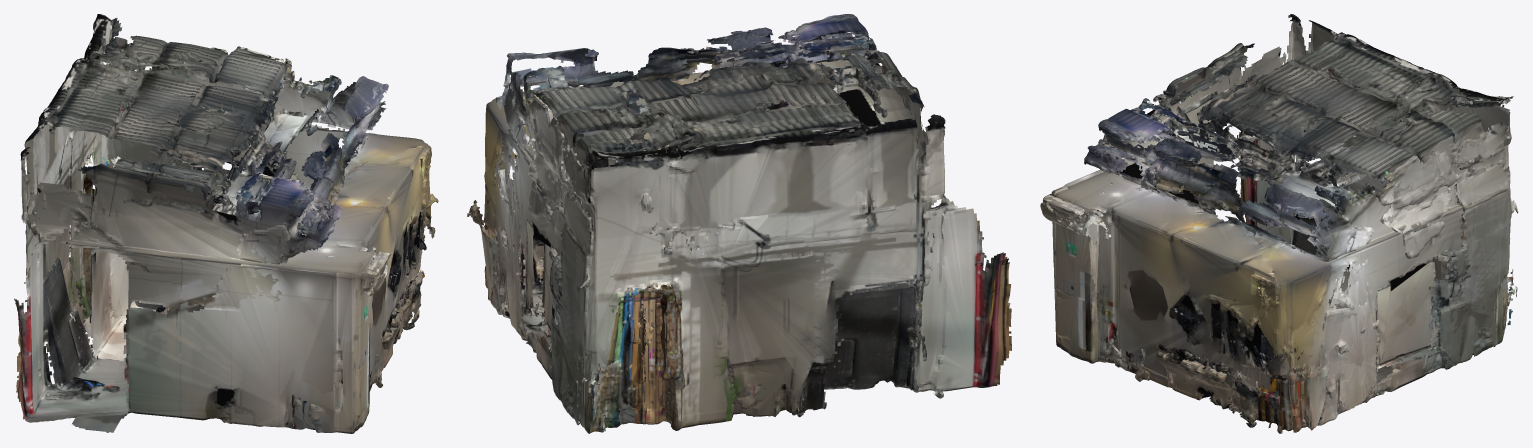
File: Photography_room-IM.fbx
The picture shows the model from 3 angles, left to right: view 1: azimuth 30°, elevation 25°; view 2: azimuth 150°, elevation 25°; view 3: azimuth 270°, elevation 25°; orthographic projection. The views are drawn at different scales.
Parts seen in each view (by area): view 1: Photography_room-IM; view 2: Photography_room-IM; view 3: Photography_room-IM.
Boxes of the visible parts, left/top/right/bottom form: Photography_room-IM: left=14, top=14, right=438, bottom=433; Photography_room-IM: left=467, top=14, right=1011, bottom=433; Photography_room-IM: left=1040, top=14, right=1518, bottom=433.
Size of the model in its own units: 1052 by 597 by 1017.
1 material, 1 textured.
